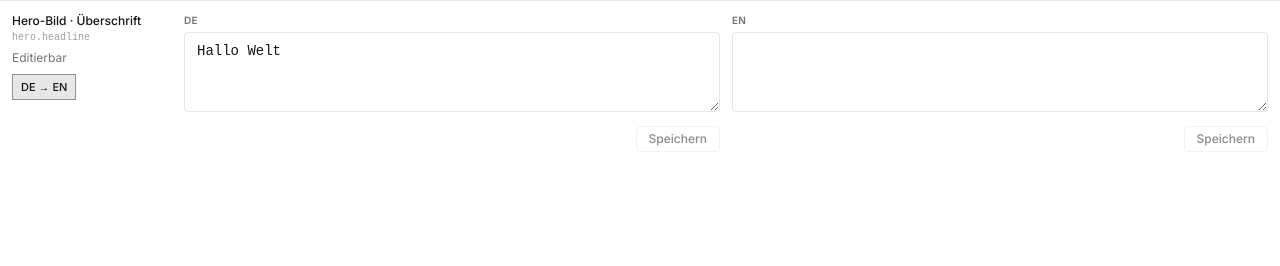
Test: EditableField — späte Vorschläge zerstören keinen neueren Text › lässt einen Vorschlag sichtbar verwerfen
The image size is (1280, 266).
Click the button "DE → EN" at (44, 87), box [12,74,76,100]
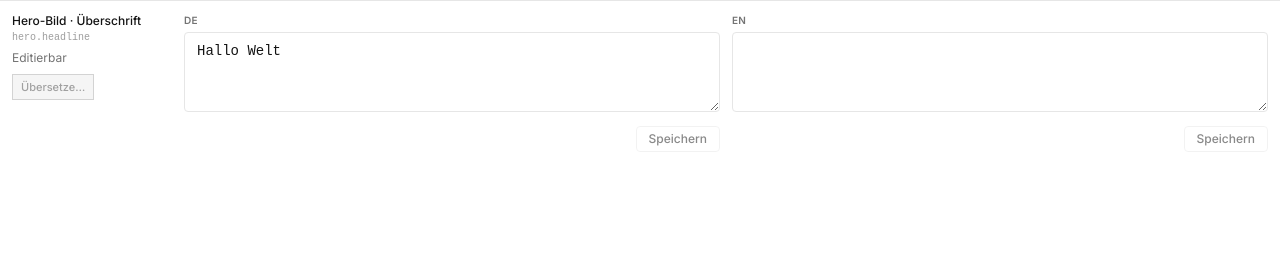
Type "Mein EN-Text" into the text box below "EN" at (1000, 72), box [732,32,1268,112]
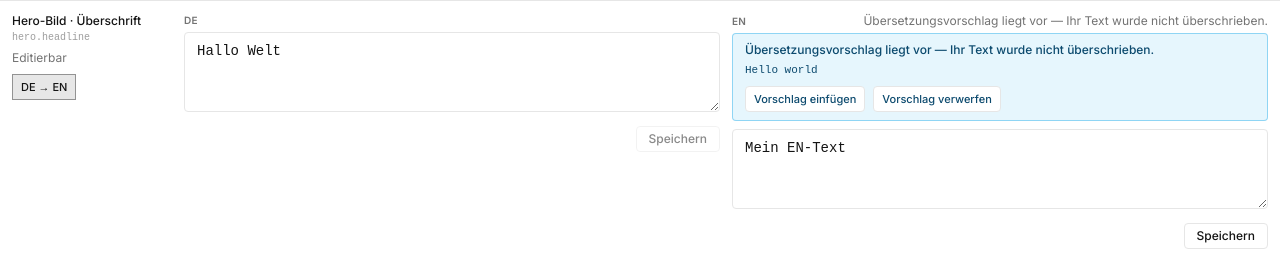
Click the button "Vorschlag verwerfen" at (937, 99), box [873,86,1001,112]
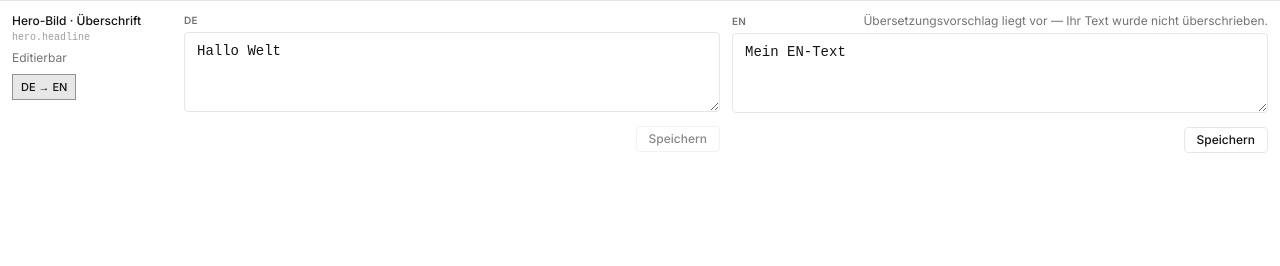
Now the message is gone
